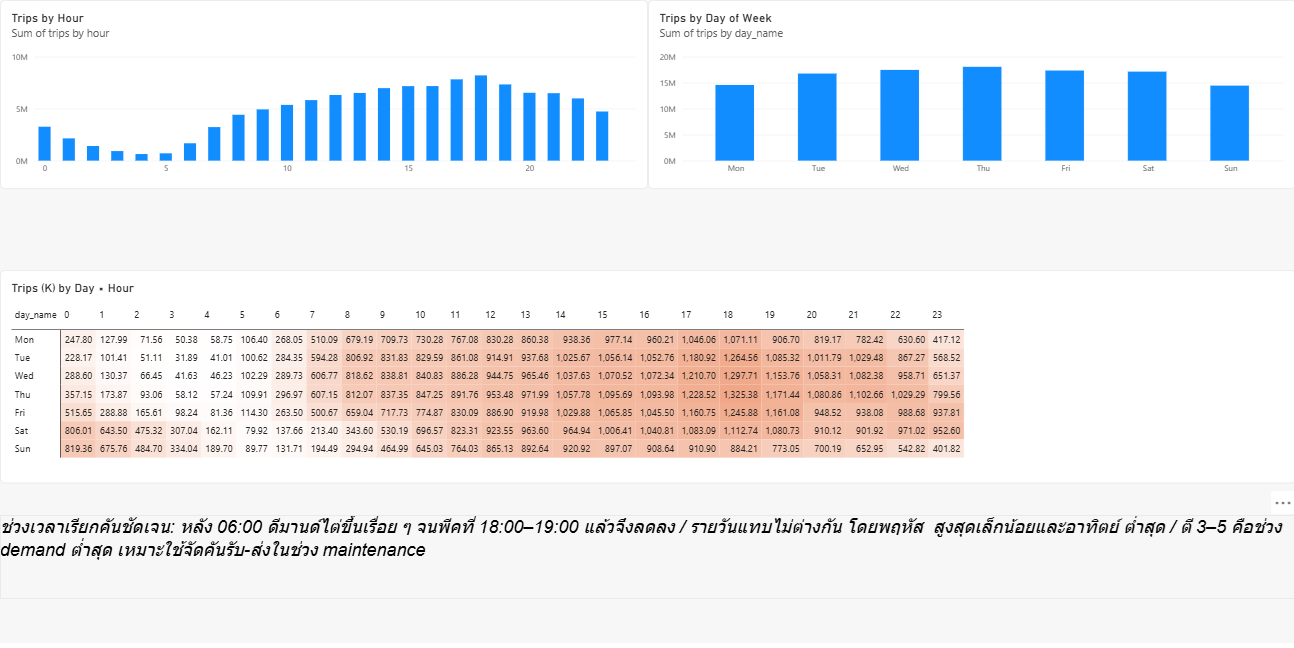

Layout of this report page (visuals, bound fields, positions):
{"tool":"powerbi","page":{"name":"Page 2","canvas":[1920,1080],"ordinal":1},"visuals":[{"type":"columnChart","title":"Trips by Hour","fields":{"Category":["public agg_hourly.hour"],"Y":["Sum(public agg_hourly.trips)"]},"box":[0,0,960,280],"z":0},{"type":"columnChart","title":"Trips by Day of Week","fields":{"Category":["public agg_hour_day.day_name"],"Y":["Sum(public agg_hour_day.trips)"]},"box":[960,0,960,280],"z":1000},{"type":"pivotTable","title":"Trips (K) by Day × Hour","fields":{"Columns":["public agg_hour_day.hour"],"Rows":["public agg_hour_day.day_name"],"Values":["public agg_hour_day.Trips (K)"]},"box":[0,399.7,1920,315.5],"z":2000},{"type":"textbox","box":[0,763,1920,124.3],"z":3000}]}

Visuals, with their boxes on the page's 1920x1080 design canvas (x1, y1, x2, y2). These are canvas units, not pixel positions in the 1294x648 screenshot, which may show the page scaled, cropped or inside an application window:
"Trips by Hour" columnChart: [x1=0, y1=0, x2=960, y2=280]
"Trips by Day of Week" columnChart: [x1=960, y1=0, x2=1920, y2=280]
"Trips (K) by Day × Hour" pivotTable: [x1=0, y1=400, x2=1920, y2=715]
textbox: [x1=0, y1=763, x2=1920, y2=887]
